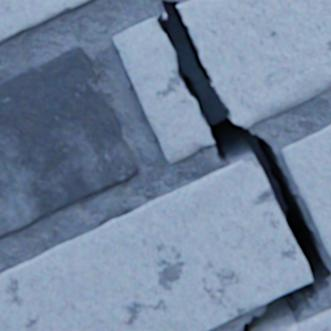brick: (0, 154, 311, 330), (0, 47, 137, 235), (281, 124, 330, 256), (0, 0, 90, 42), (280, 307, 330, 330)
broken_brick: (176, 0, 330, 127), (113, 15, 213, 163)
crack: (157, 0, 330, 330)
